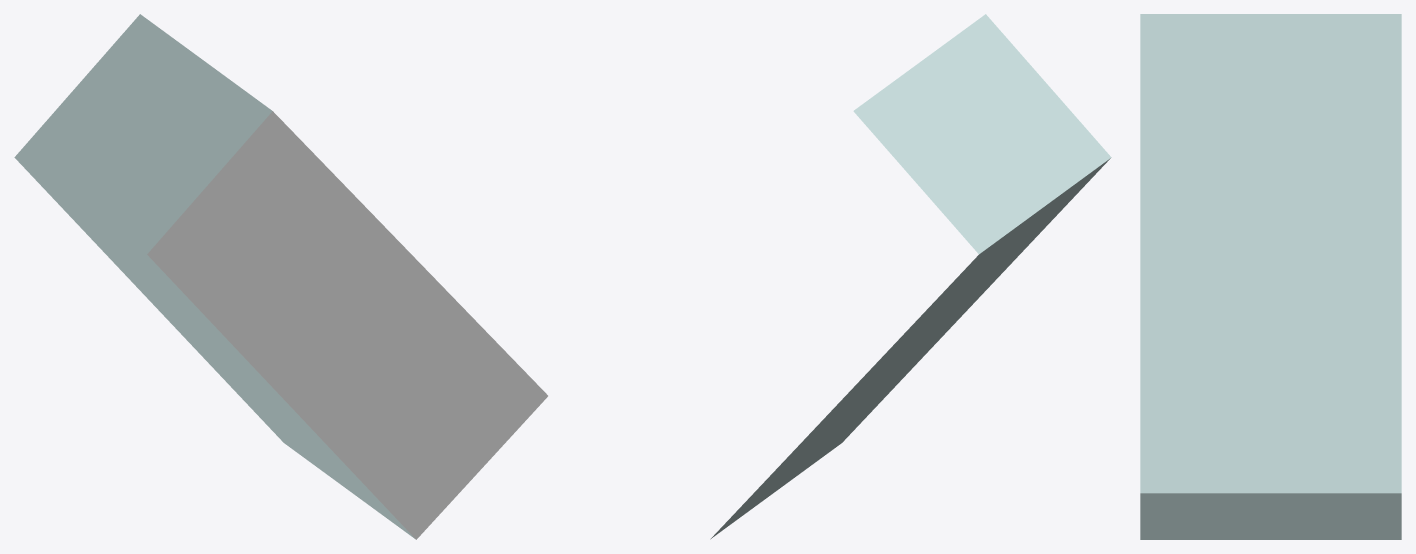
The picture shows the model from 3 angles, left to right: view 1: azimuth 30°, elevation 25°; view 2: azimuth 150°, elevation 25°; view 3: azimuth 270°, elevation 25°; orthographic projection.
Parts seen in each view (by area): view 1: 0_2_3_3_3_1_1_2_1; view 2: 0_2_3_3_3_1_1_2_1; view 3: 0_2_3_3_3_1_1_2_1.
Part boxes in pixels (x1,y1,x2,y2): 0_2_3_3_3_1_1_2_1: [14, 14, 547, 539]; 0_2_3_3_3_1_1_2_1: [710, 14, 1111, 539]; 0_2_3_3_3_1_1_2_1: [1140, 14, 1401, 539].
Size of the model in its own units: 5.25 by 5.79 by 3.
